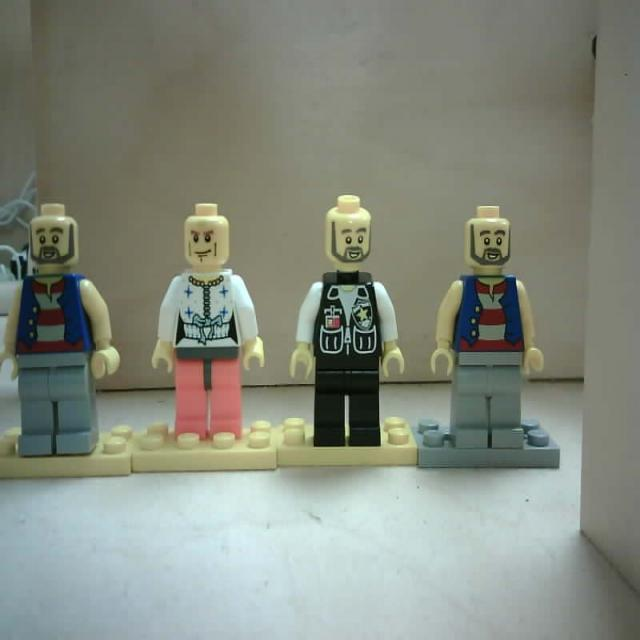Lego-People: (410, 204, 560, 476), (131, 205, 278, 478), (281, 190, 419, 470), (4, 206, 135, 484)
